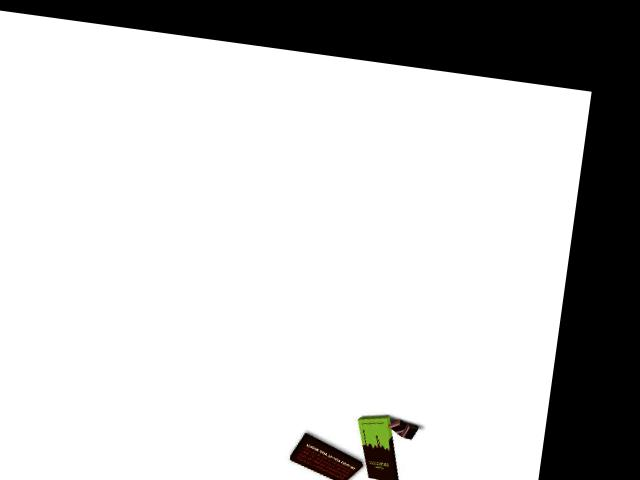chocolate: (353, 409, 402, 480)
